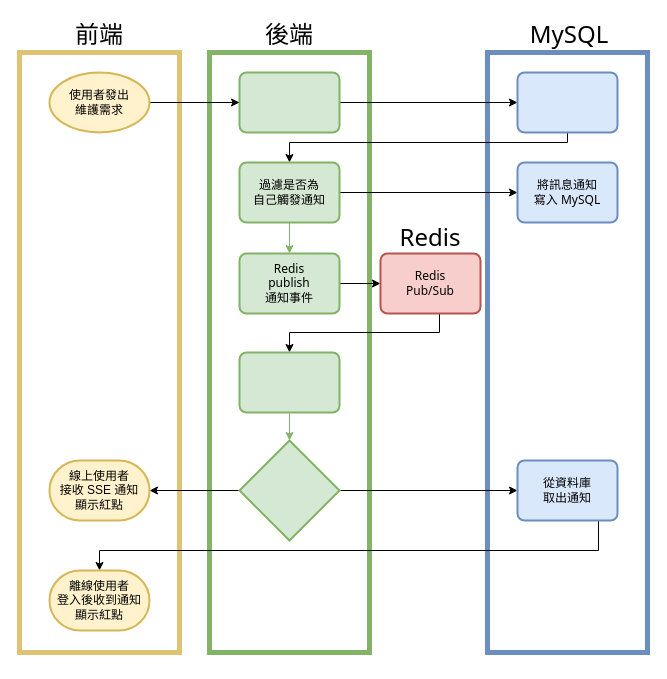
The diagram is 667 pixels wide and 679 high, and some of its shapes have lost their labels. The shapes that lost their labels are listed below. From the top down, each one's centre as x and y in pixels, then its label:
(289,102): FastAPI 接收維護需求
(567,102): MySQL 更新資料
(289,382): SSE 接收 Redis 通知
(289,490): 使用者 是否在線？
